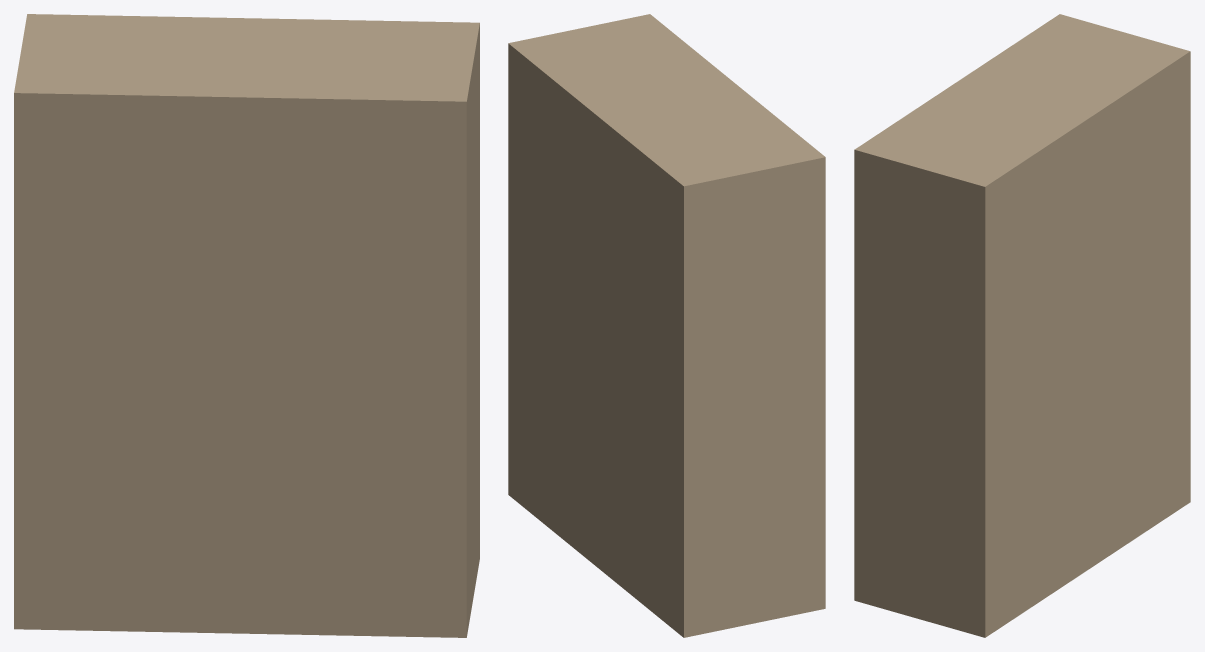
Rendered from bld_101353705.dae.
3 views of the same model, side by side, from view 1: azimuth 30°, elevation 25°; view 2: azimuth 150°, elevation 25°; view 3: azimuth 270°, elevation 25° (orthographic). The views are drawn at different scales.
Visible parts, largest first — view 1: bld_101353705; view 2: bld_101353705; view 3: bld_101353705.
Part boxes in pixels (<box>): bld_101353705: <box>14,14,479,637</box>; bld_101353705: <box>508,14,825,637</box>; bld_101353705: <box>854,14,1190,637</box>.
Size of the model in its own units: 6.58 by 5.4 by 8.
